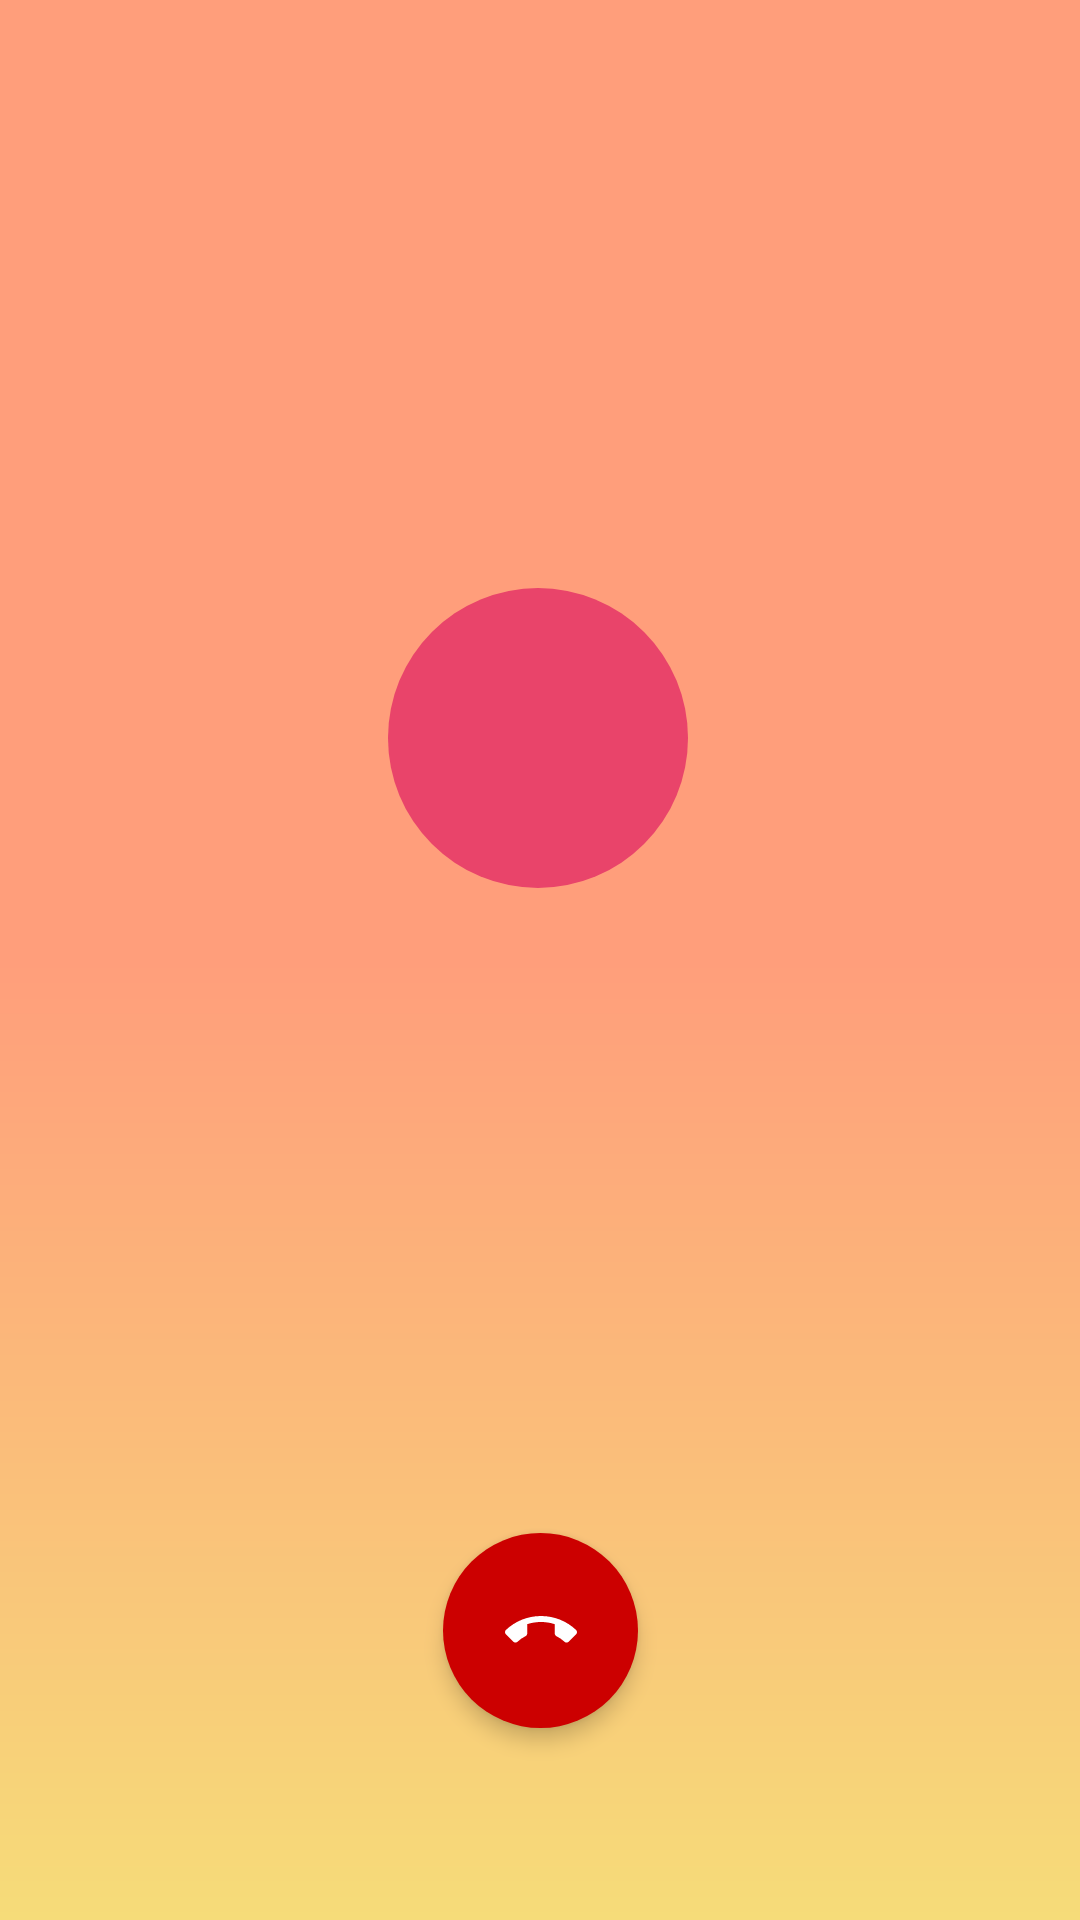

Icon click points for this 1080px x 1920px phone screenshot, format point (x, y):
end call: point (540, 1630)
